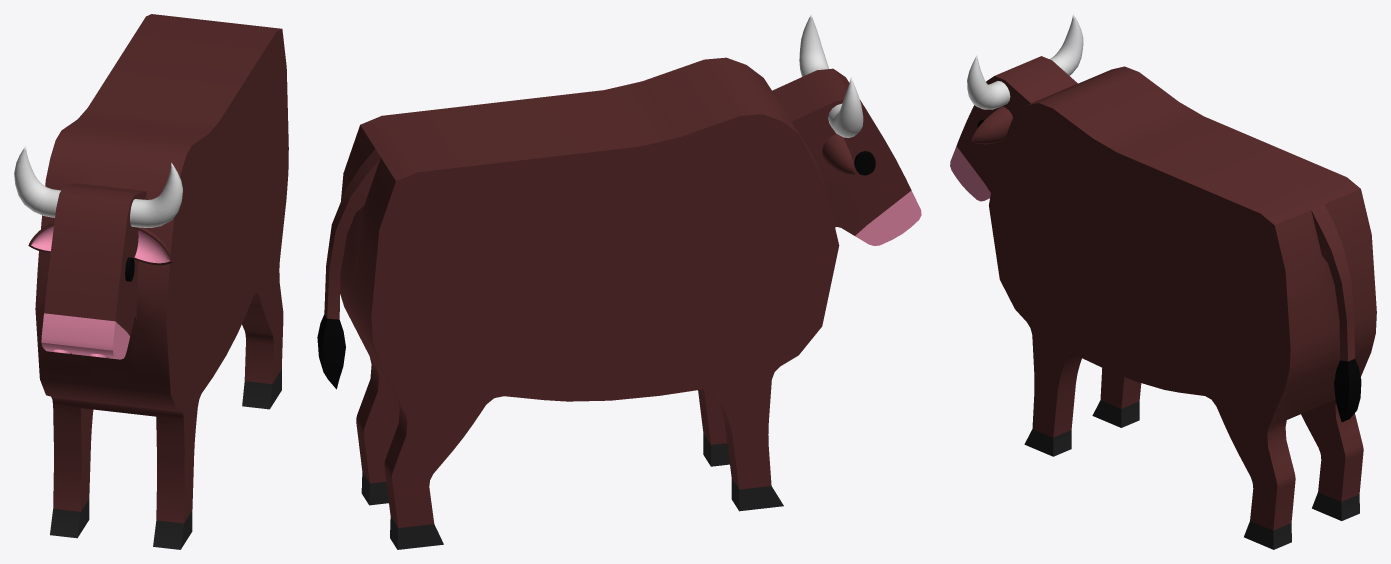
3 views of the same model, side by side, from view 1: azimuth 30°, elevation 25°; view 2: azimuth 150°, elevation 25°; view 3: azimuth 270°, elevation 25° (orthographic). The views are drawn at different scales.
Parts seen in each view (by area): view 1: Plane.119, Circle.1892, Cube.6227; view 2: Plane.119, Circle.1892, Cube.6227; view 3: Plane.119, Circle.1892, Cube.6227.
Part boxes in pixels (x1,y1,x2,y2): Plane.119: (35,14,288,549); Circle.1892: (14,146,182,227); Cube.6227: (28,222,172,265); Plane.119: (317,57,921,549); Circle.1892: (799,14,863,137); Cube.6227: (822,134,855,174); Plane.119: (950,56,1376,549); Circle.1892: (967,14,1083,109); Cube.6227: (971,106,1012,144).
Bounding box in the file's own units: 218 × 211 × 218.
1 material, 1 textured.
